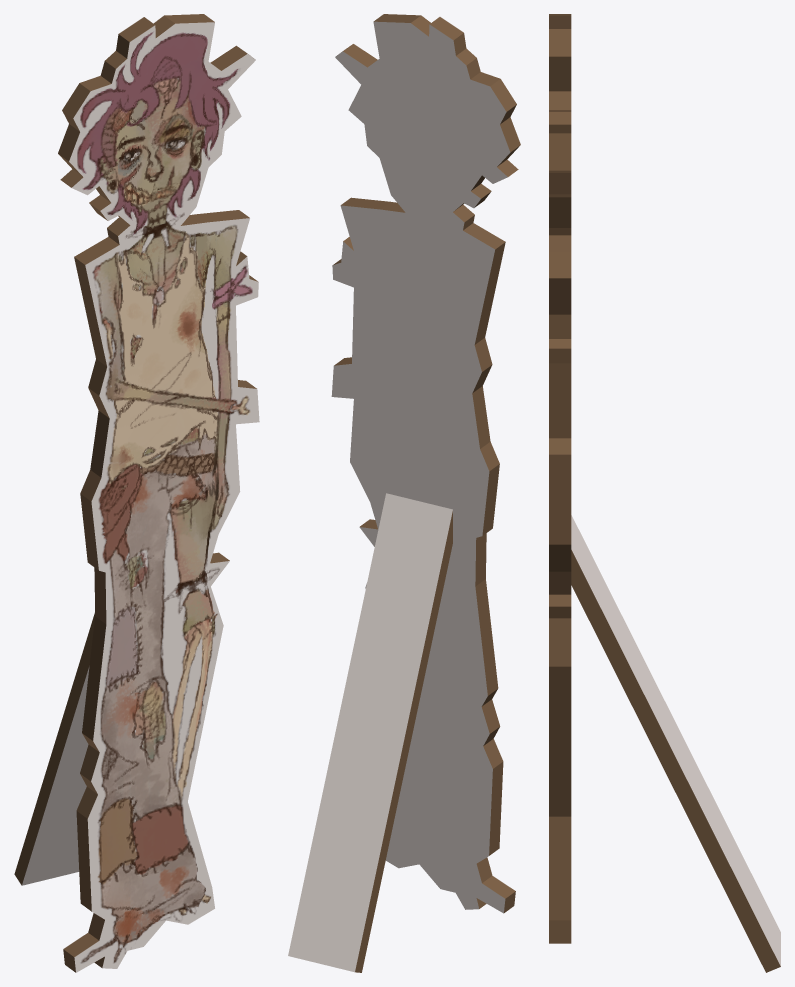
Rendered from Semlan_Sad.fbx.
3 views of the same model, side by side, from view 1: azimuth 30°, elevation 25°; view 2: azimuth 150°, elevation 25°; view 3: azimuth 270°, elevation 25° (orthographic). The views are drawn at different scales.
Visible parts, largest first — view 1: Semlan_Sad; view 2: Semlan_Sad; view 3: Semlan_Sad.
Boxes of the visible parts, box(x1,y1,x2,y2) form: Semlan_Sad: box(14, 14, 259, 972); Semlan_Sad: box(288, 14, 520, 972); Semlan_Sad: box(549, 14, 780, 972).
Bounding box in the file's own units: 37.14 × 174 × 39.1.
Materials: 1 (1 with a texture image).
